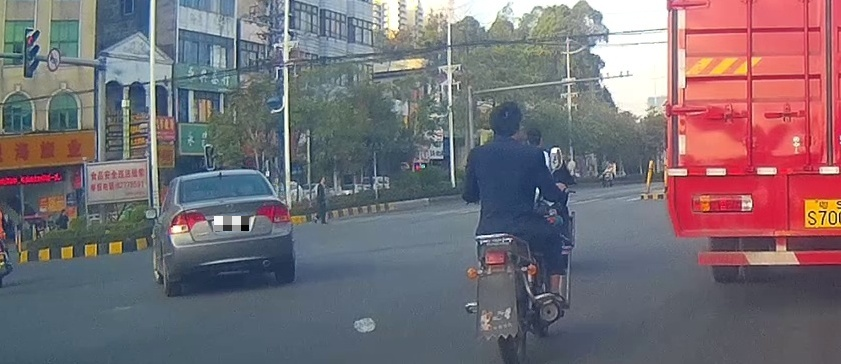L_light: (168, 209, 205, 234)
R_light: (255, 202, 291, 223)
T_light: (213, 175, 231, 181)
day-left: (168, 170, 292, 297)
plate_1: (214, 216, 249, 231)
